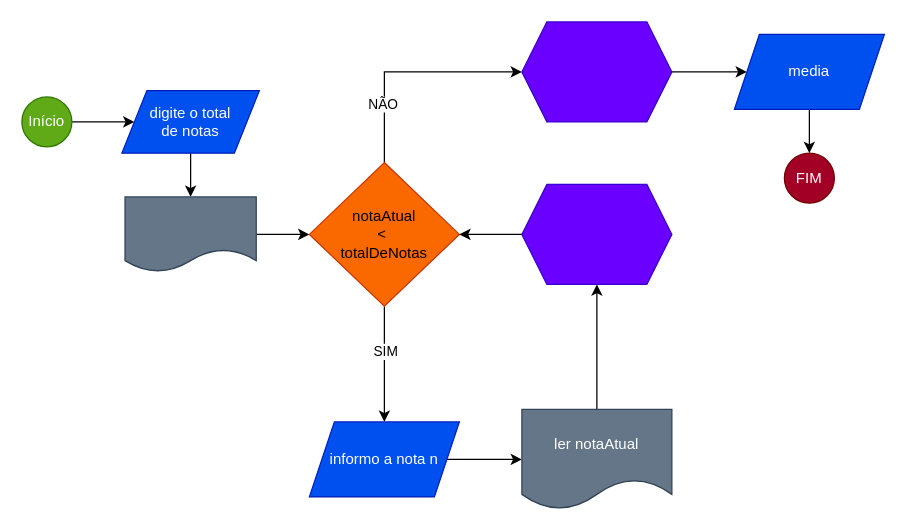
The diagram is 906 pixels wide and 531 high, and some of its shapes have lost their labels. Each missing label, with the centre of its shape:
ler totalDeNotas: [190,234]
media = soma / totalDeNotas: [596,71]
soma = soma + notaAtual; contador++: [596,233]
